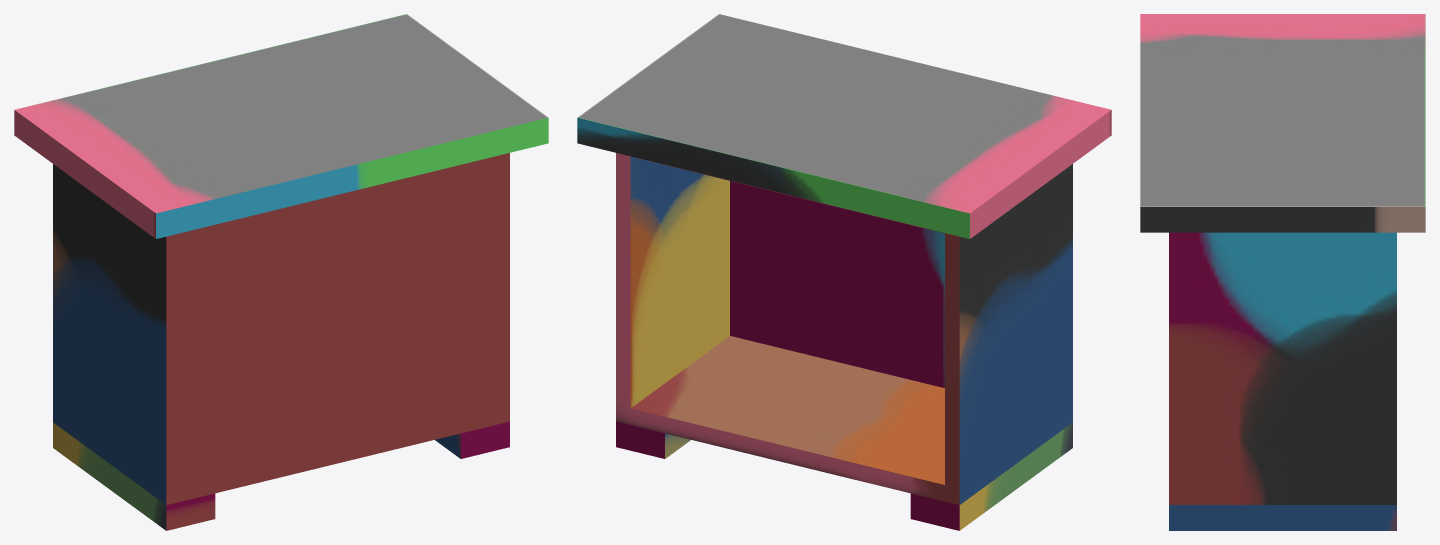
File: Drawer Frame.obj
3 views of the same model, side by side, from view 1: azimuth 30°, elevation 25°; view 2: azimuth 150°, elevation 25°; view 3: azimuth 270°, elevation 25° (orthographic).
Visible parts, largest first — view 1: cuboid, cube; view 2: cuboid, cube; view 3: cuboid, cube.
Boxes of the visible parts, x1,y1,x2,y2 form: cuboid: [14, 14, 548, 505]; cube: [53, 421, 509, 530]; cuboid: [577, 14, 1111, 505]; cube: [616, 421, 1072, 530]; cuboid: [1140, 14, 1425, 504]; cube: [1169, 505, 1396, 530].
Bounding box in the file's own units: 1 × 0.8125 × 0.625.
